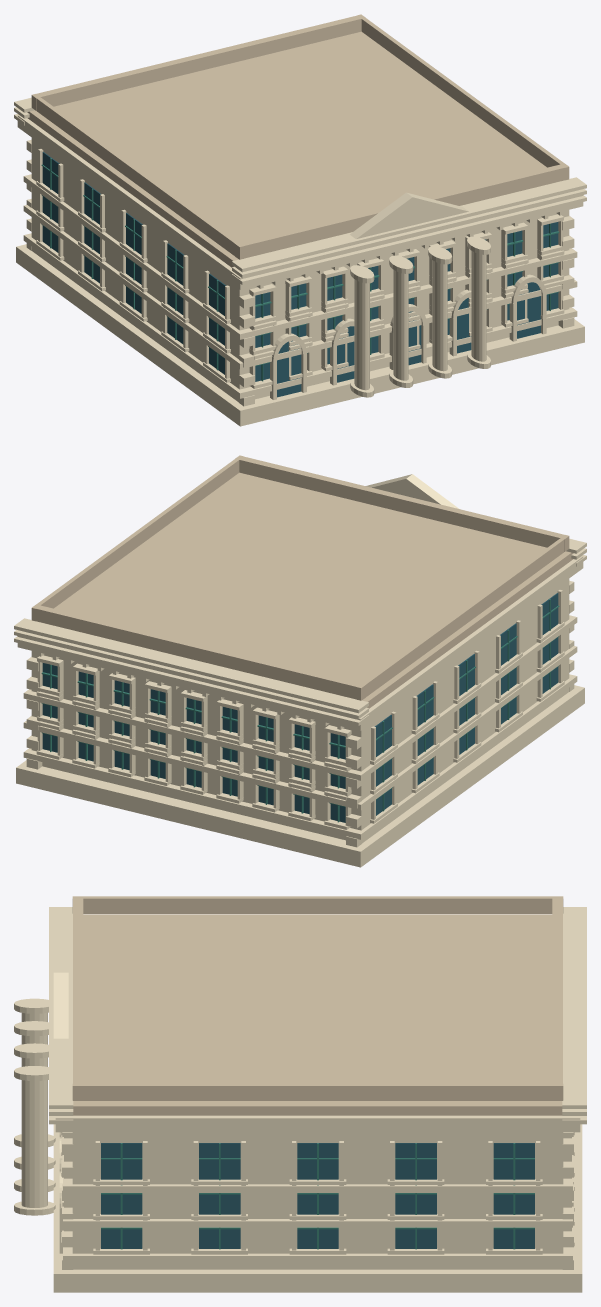
Rendered from russo-chinese-bank.glb.
3 renders of one model, top to bottom at view 1: azimuth 30°, elevation 25°; view 2: azimuth 150°, elevation 25°; view 3: azimuth 270°, elevation 25°, orthographic. The views are drawn at different scales.
Parts seen in each view (by area): view 1: russo-chinese-bank; view 2: russo-chinese-bank; view 3: russo-chinese-bank.
Part boxes in pixels (left/top/right/bottom): russo-chinese-bank: left=14, top=14, right=586, bottom=426; russo-chinese-bank: left=14, top=455, right=586, bottom=867; russo-chinese-bank: left=14, top=896, right=586, bottom=1292.
Bounding box in the file's own units: 32.75 × 17 × 39.99.
